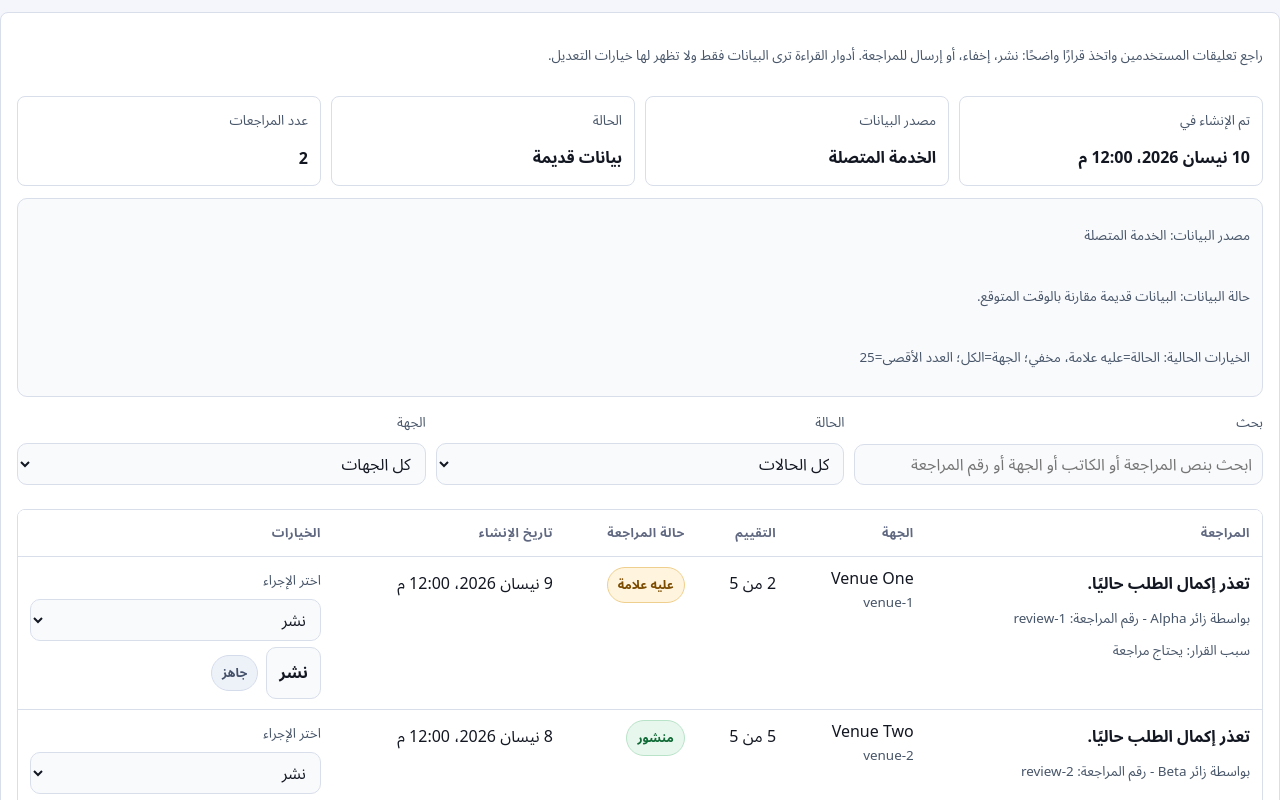
Test case: review moderation shell › surfaces App Check failures without labeling them as conflicts
Step 1. Select "إخفاء" in the dropdown with test id "review-action-select-review-1" → (175, 620), box 30,598 -> 321,640
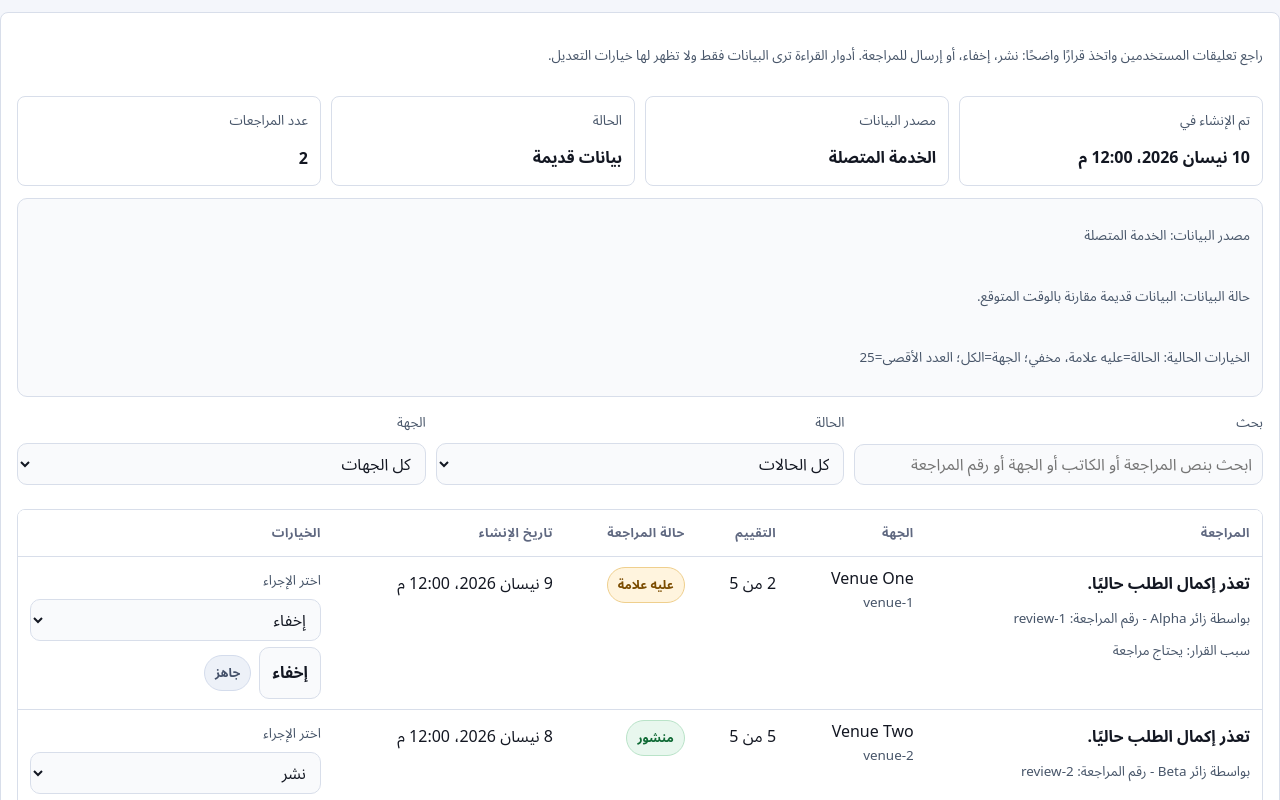
Step 2. Click the button with test id "review-action-run-review-1" → (290, 672), box 259,646 -> 321,698
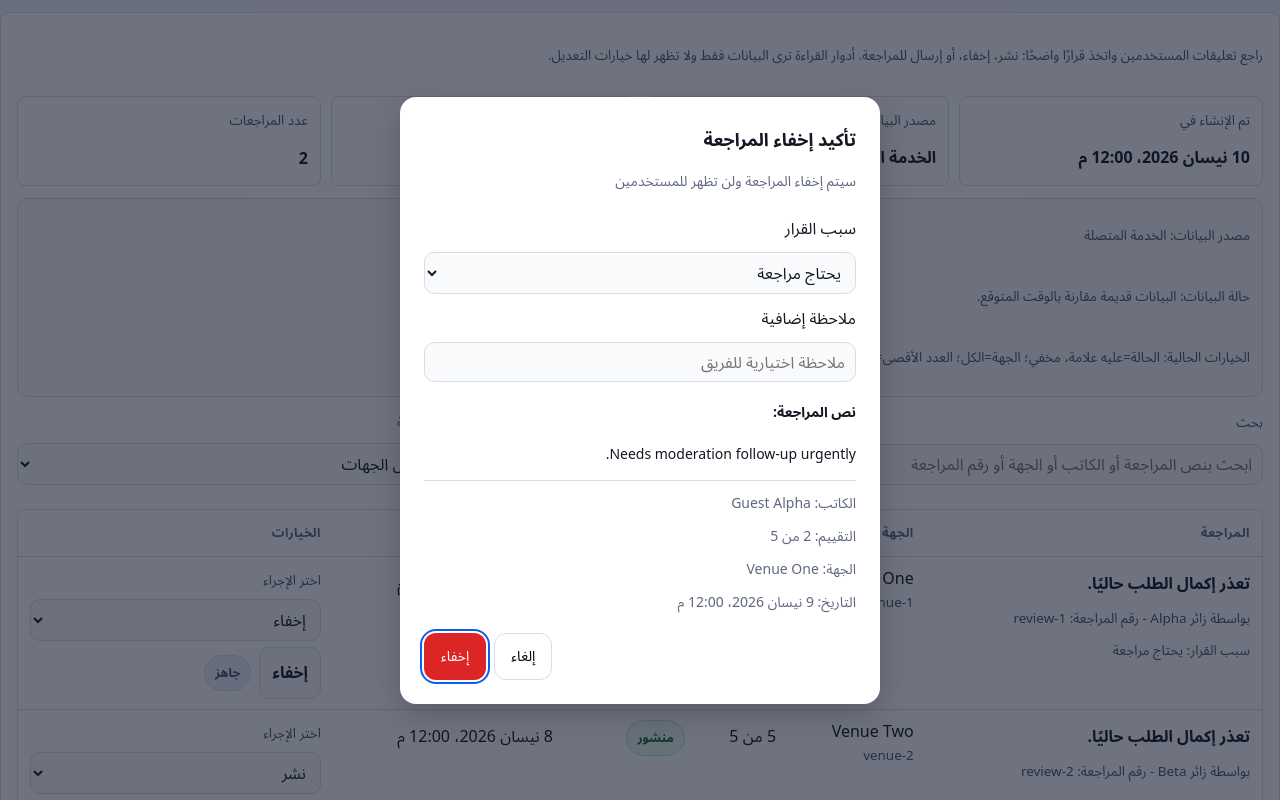
Expected: the dialog is shown, 400,96 -> 880,704
# Click confirm button in dialog (إخفاء for hide action) - last button is the confirm button
Step 3. Click the button "إخفاء" → (455, 656), box 424,632 -> 486,680
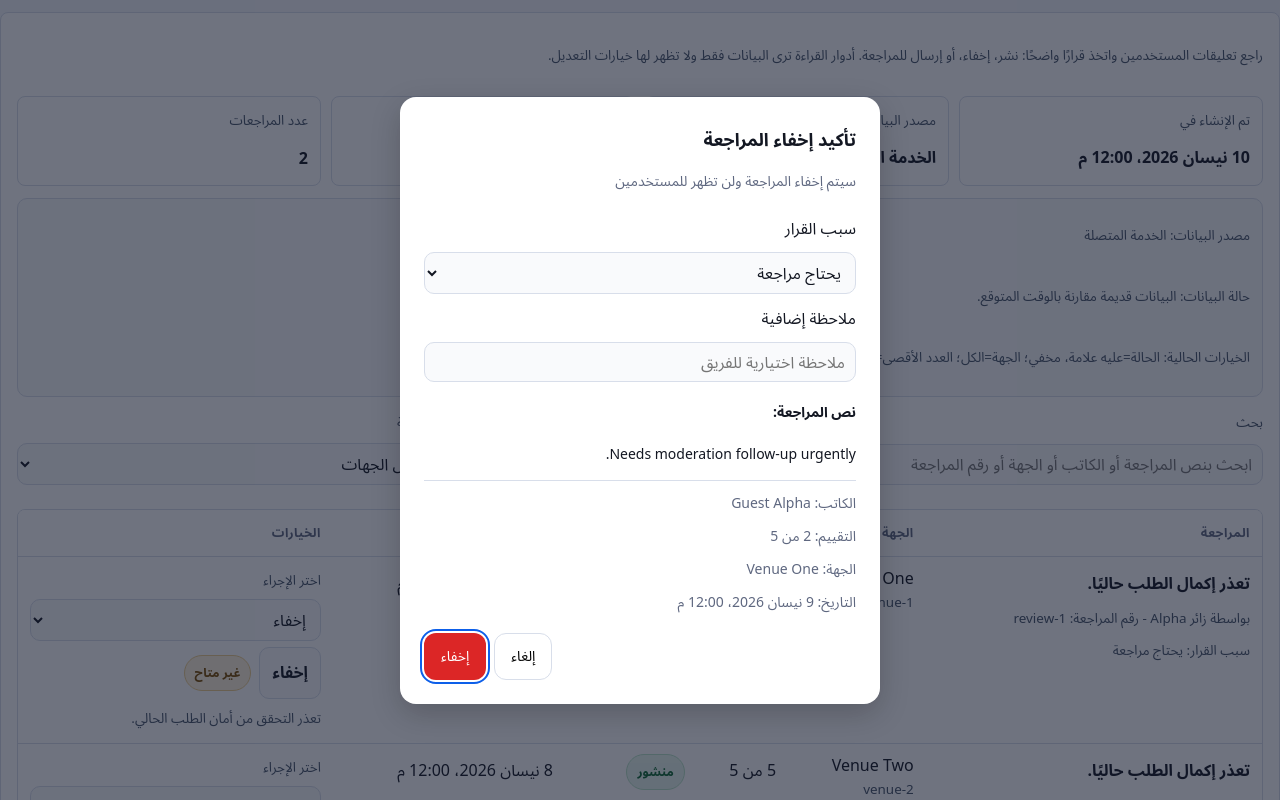
Expected: the text "تعذر التحقق من أمان الطلب الحالي." is shown, 131,708 -> 321,726
